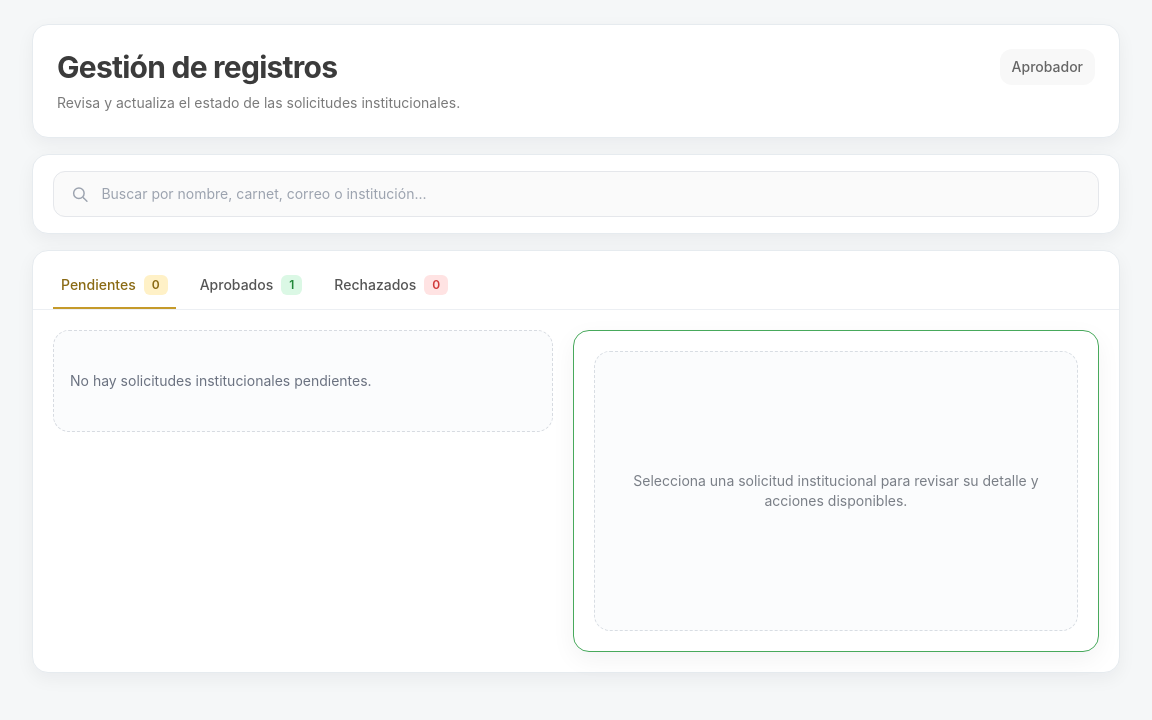
Test: MX-02 | Gestión de instituciones, administradores y wallets | Frontend Admin | Aprobaciones › [MX-02][D-SIGN-011][INTEGRACION] muestra acceso habilitado cuando la confirmación de red es exitosa
The image size is (1152, 720).
Click the button "Aprobados 1" at point(251, 286), box 192,263 -> 310,309
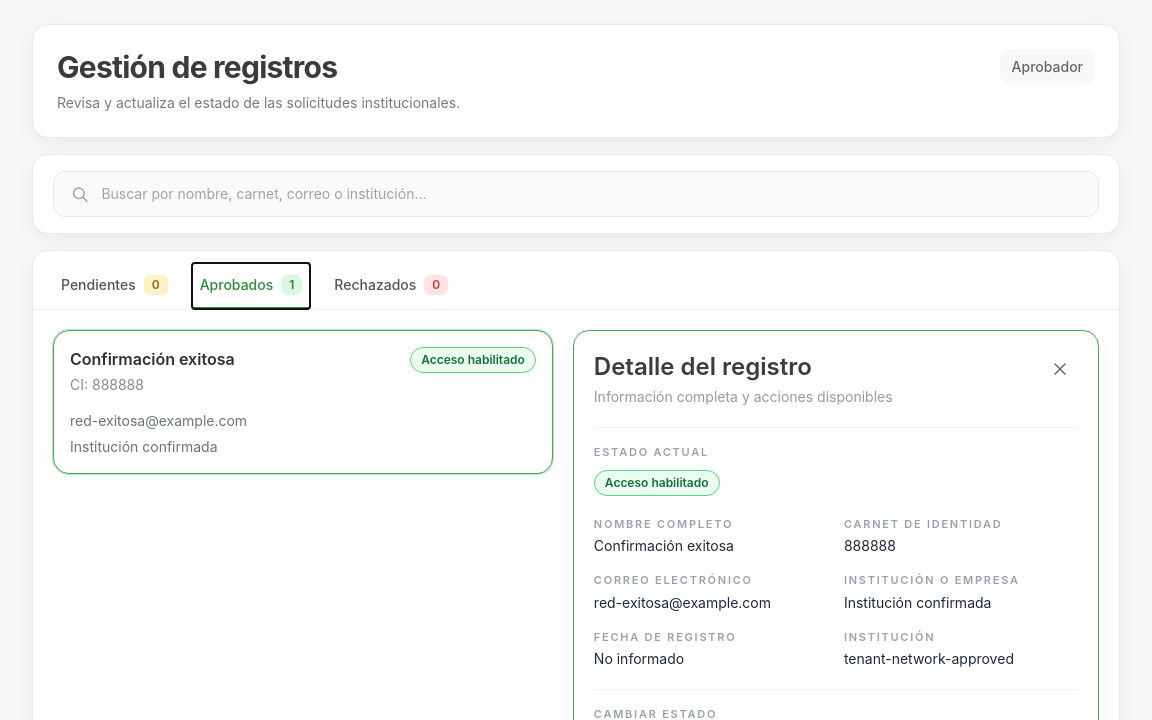
Check: the button "Confirmación exitosa" is shown, box 53,330 -> 553,474
Check: the 1st text "Acceso habilitado" is shown, box 410,347 -> 536,373
